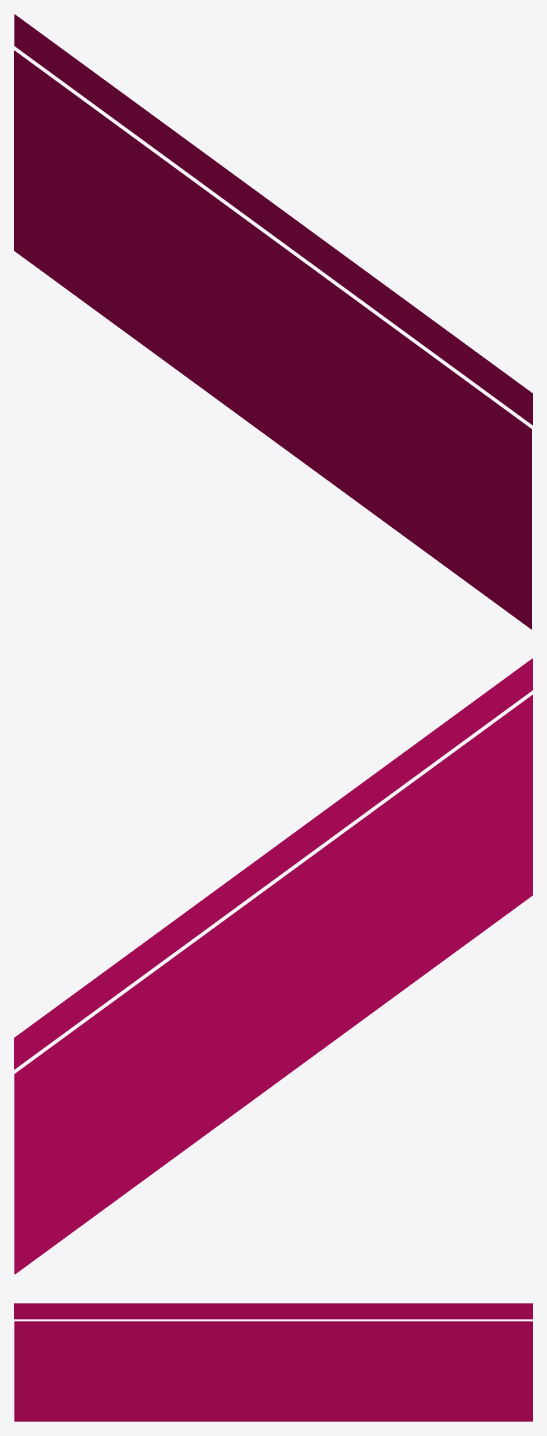
File: Fence_03_x4_Grid_Lod.fbx
3 renders of one model, top to bottom at view 1: azimuth 30°, elevation 25°; view 2: azimuth 150°, elevation 25°; view 3: azimuth 270°, elevation 25°, orthographic. The views are drawn at different scales.
Visible parts, largest first — view 1: Fence_03_x4_Grid_Lod; view 2: Fence_03_x4_Grid_Lod; view 3: Fence_03_x4_Grid_Lod.
Part boxes in pixels (box(x1,y1,x2,y2)): Fence_03_x4_Grid_Lod: box(14, 14, 532, 629); Fence_03_x4_Grid_Lod: box(14, 658, 532, 1274); Fence_03_x4_Grid_Lod: box(14, 1303, 532, 1421).
Bounding box in the file's own units: 1.22 × 302 × 1200.
